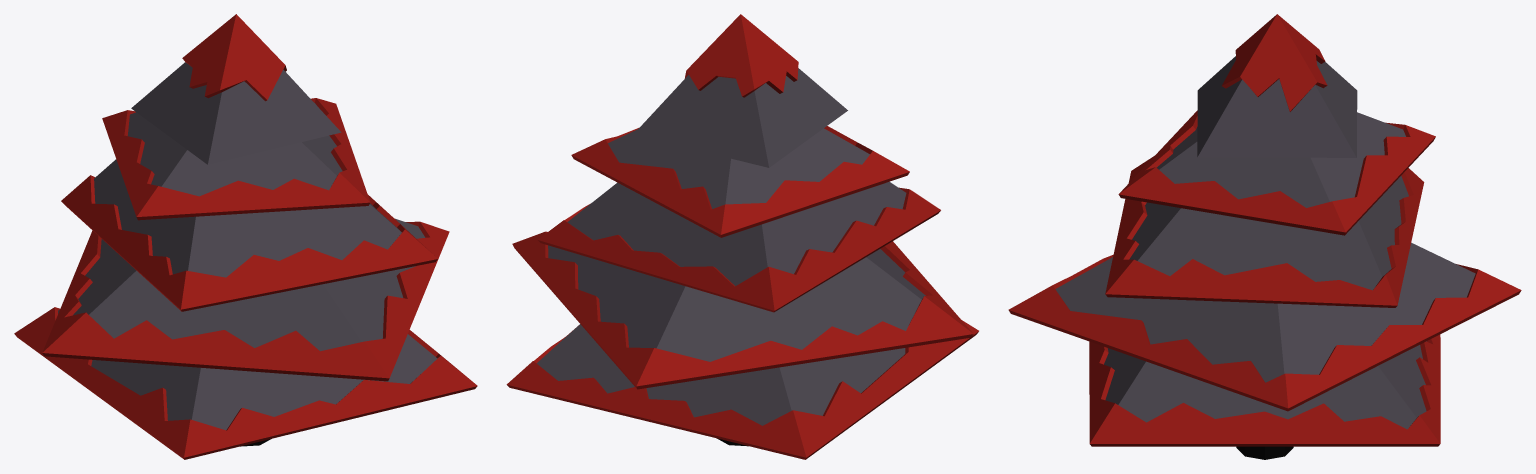
Rendered from evil_tree.fbx.
The picture shows the model from 3 angles, left to right: view 1: azimuth 30°, elevation 25°; view 2: azimuth 150°, elevation 25°; view 3: azimuth 270°, elevation 25°; orthographic projection. The views are drawn at different scales.
Parts seen in each view (by area): view 1: Plane.003, Plane.002; view 2: Plane.003, Plane.002; view 3: Plane.003, Plane.002, Cylinder.001.
Boxes of the visible parts, <box> form: Plane.003: <box>58,62,437,430</box>; Plane.002: <box>14,14,477,459</box>; Plane.003: <box>537,68,925,425</box>; Plane.002: <box>506,14,978,459</box>; Plane.003: <box>1055,56,1475,429</box>; Plane.002: <box>1008,14,1521,446</box>; Cylinder.001: <box>1236,446,1293,459</box>.
Bounding box in the file's own units: 151 × 140 × 151.
